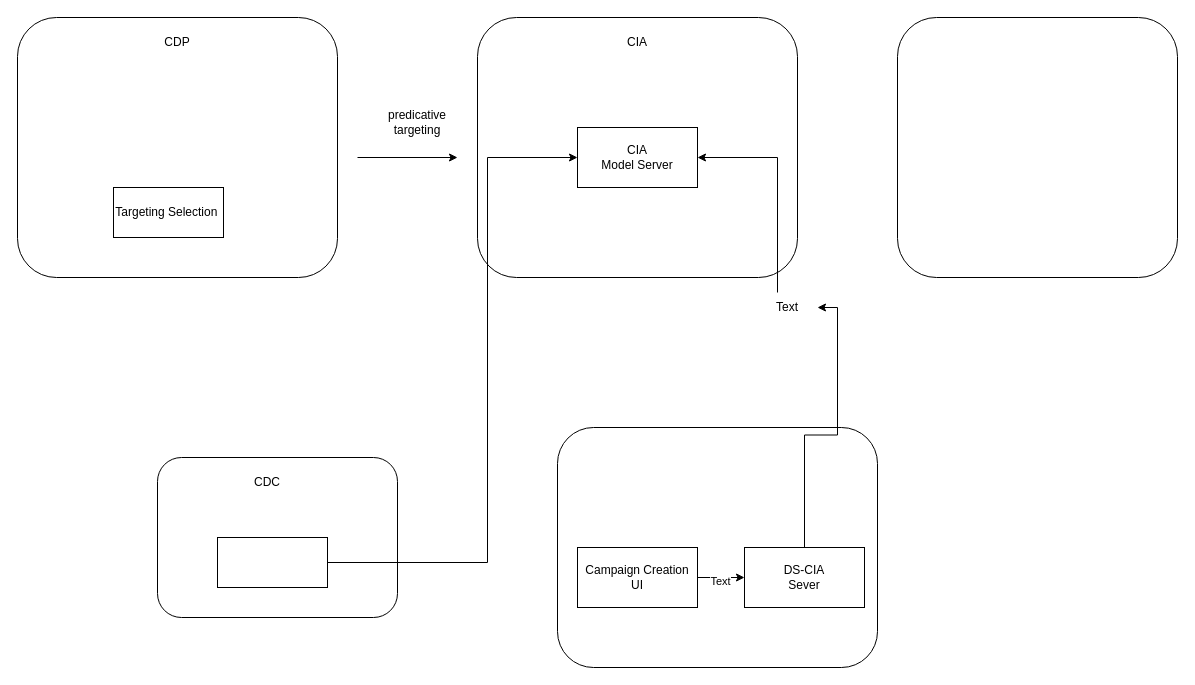
Some shapes in this 1195 by 685 pixel diagram are drawn without their labels. Each missing label, with the centre of its shape:
"Adobe" belongs at (x=1037, y=147).
"Campaign Creation" belongs at (x=272, y=562).
